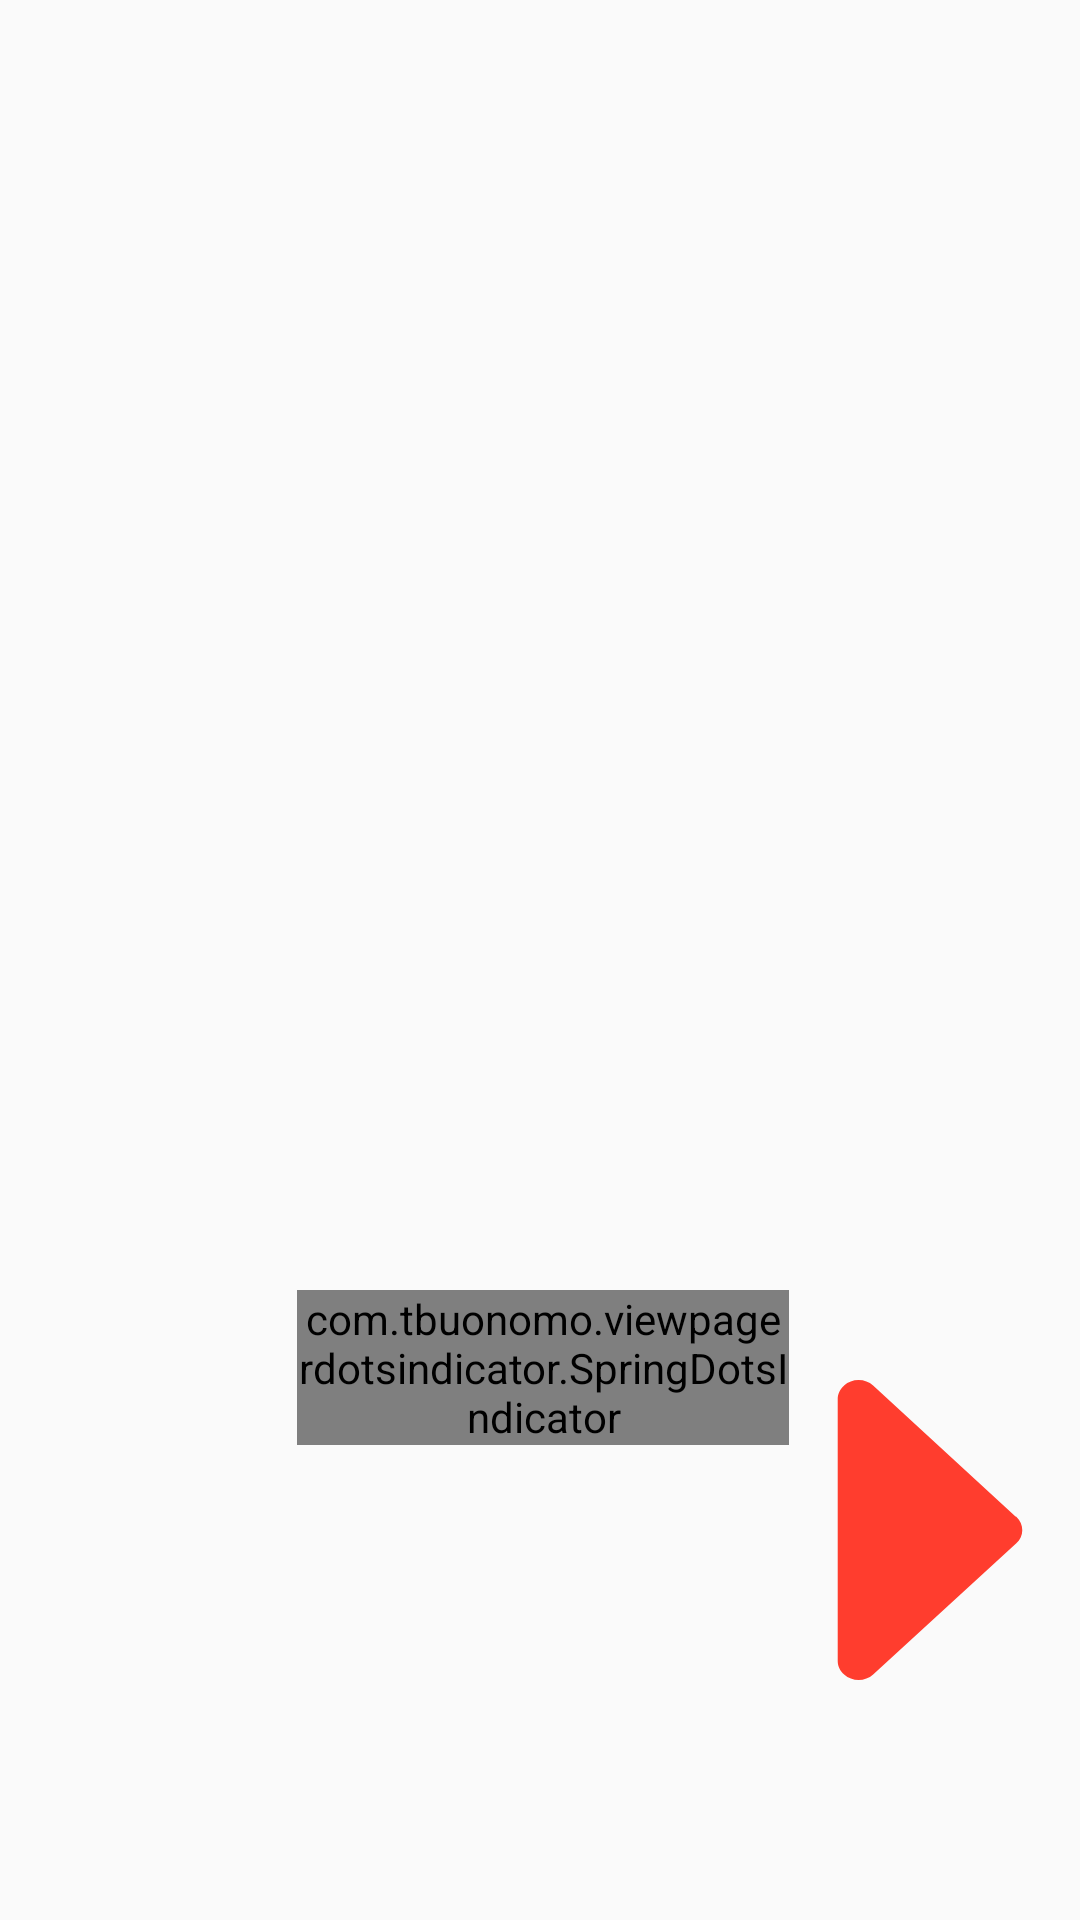

Point at icon controls on the screen. Image size 1080 × 1920, points as point (x, y).
nextbtn: point (930, 1530)
